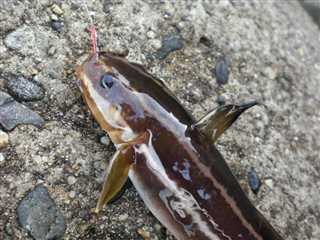gonzui: (63, 17, 296, 240)
